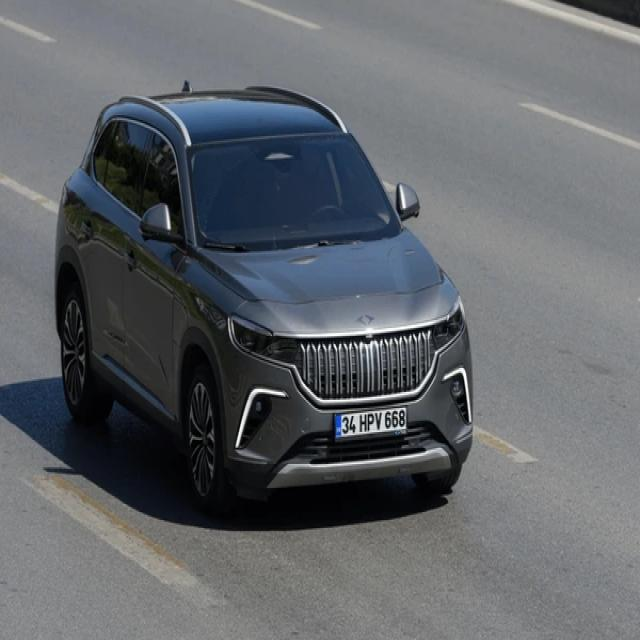togg: (352, 310, 377, 332)
